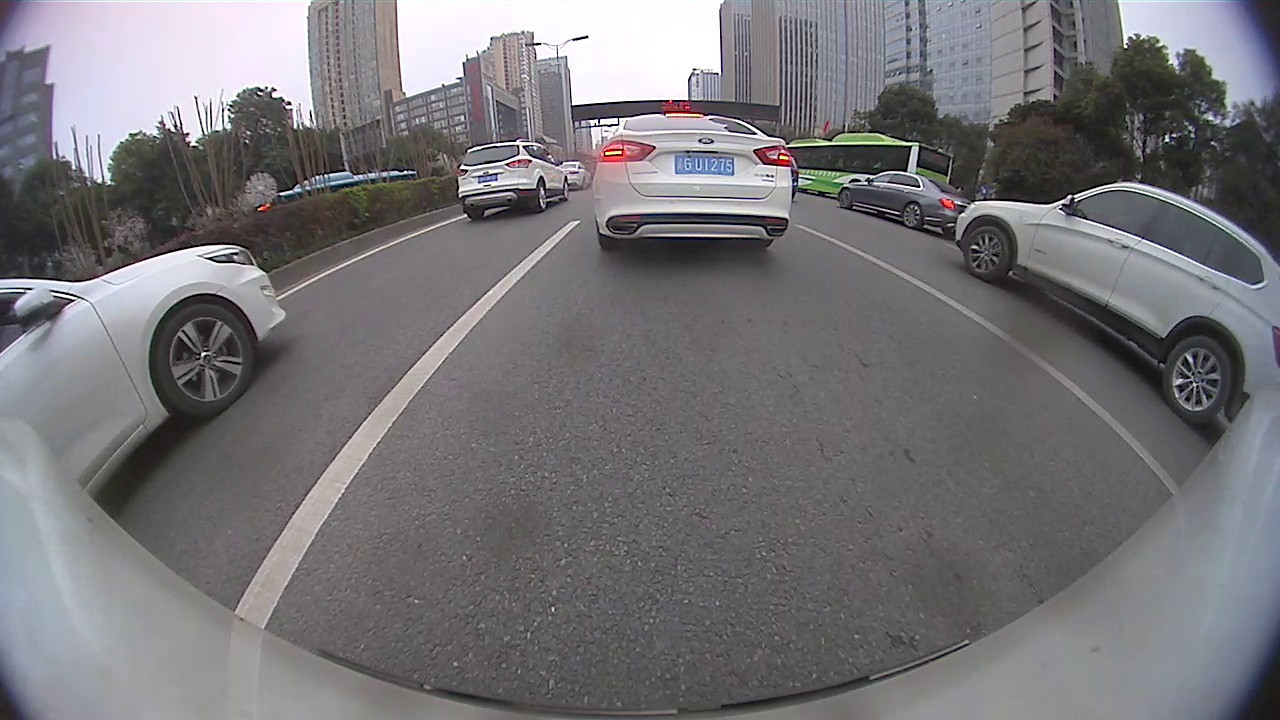bus: (786, 133, 954, 197)
car: (955, 181, 1279, 425), (1, 244, 286, 501), (592, 111, 794, 249), (456, 138, 570, 222), (836, 170, 974, 239), (559, 161, 592, 190)
front: (158, 304, 260, 421), (965, 224, 1016, 279), (835, 184, 851, 210)
rear: (1161, 331, 1236, 426), (532, 179, 550, 217), (901, 201, 922, 231)
